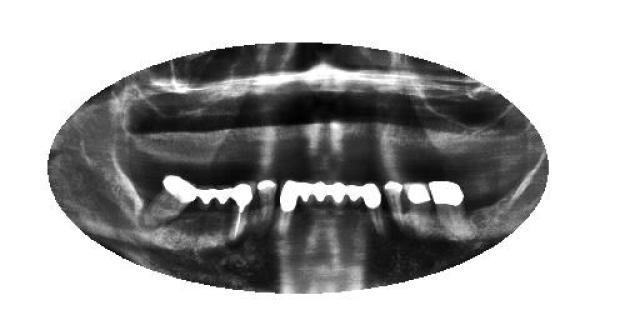Fillings: (142, 174, 198, 228), (427, 180, 465, 240), (401, 182, 431, 236), (360, 180, 385, 238), (256, 180, 278, 238), (278, 178, 298, 236), (384, 180, 405, 230), (311, 178, 329, 208), (329, 179, 345, 209), (214, 182, 231, 210), (196, 184, 214, 208), (345, 181, 361, 205), (298, 179, 312, 206)
Implant: (228, 182, 254, 242)
